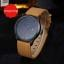watch: (12, 13, 44, 46)
